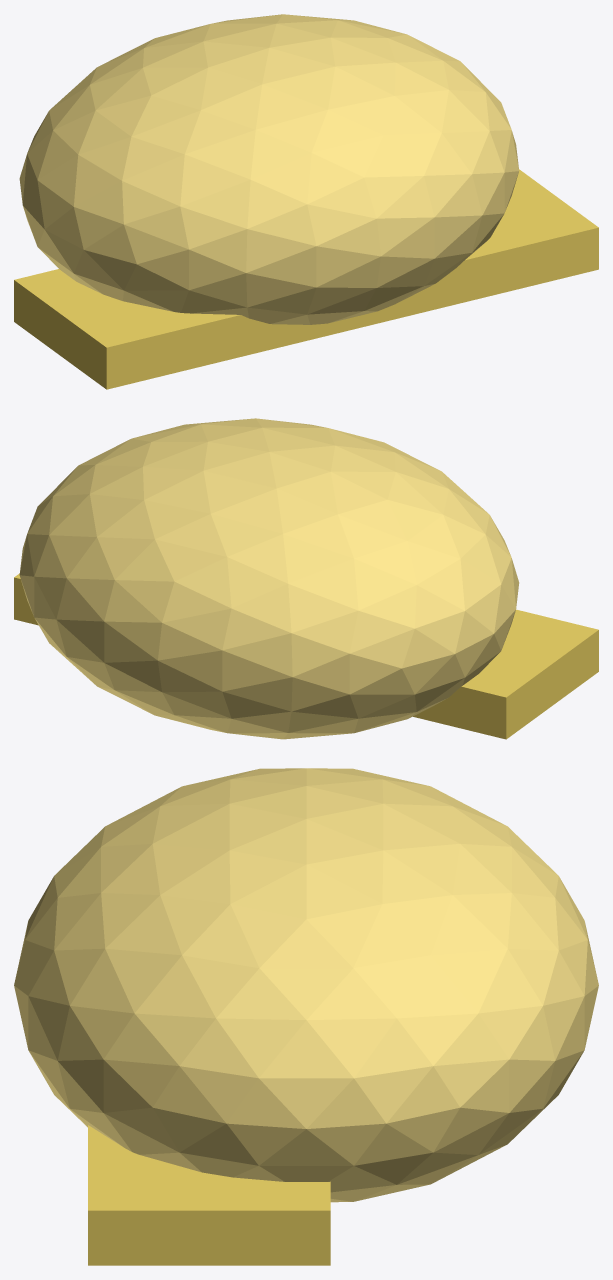
File: helmet_lod1.glb
3 views of the same model, one above another, from view 1: azimuth 30°, elevation 25°; view 2: azimuth 150°, elevation 25°; view 3: azimuth 270°, elevation 25° (orthographic). The views are drawn at different scales.
Visible parts, largest first — view 1: helmet-shell, helmet-brim; view 2: helmet-shell, helmet-brim; view 3: helmet-shell, helmet-brim.
Part boxes in pixels (<box>): helmet-shell: <box>19,14,519,324</box>; helmet-brim: <box>14,169,598,389</box>; helmet-shell: <box>19,418,519,739</box>; helmet-brim: <box>14,573,598,739</box>; helmet-shell: <box>14,768,598,1202</box>; helmet-brim: <box>88,1125,330,1265</box>.
Bounding box in the file's own units: 0.92 × 0.4536 × 0.7224.
